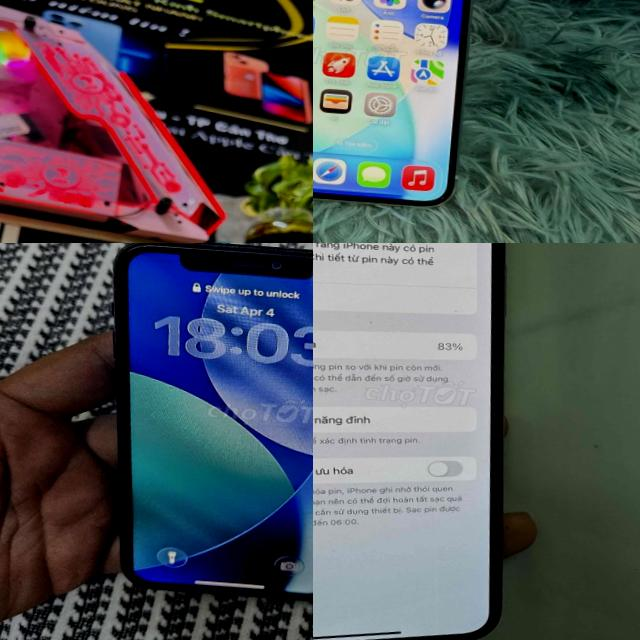gen_11: (113, 243, 313, 598)
gen_12_13: (313, 0, 491, 220)
gen_x_xs: (313, 243, 532, 640)
